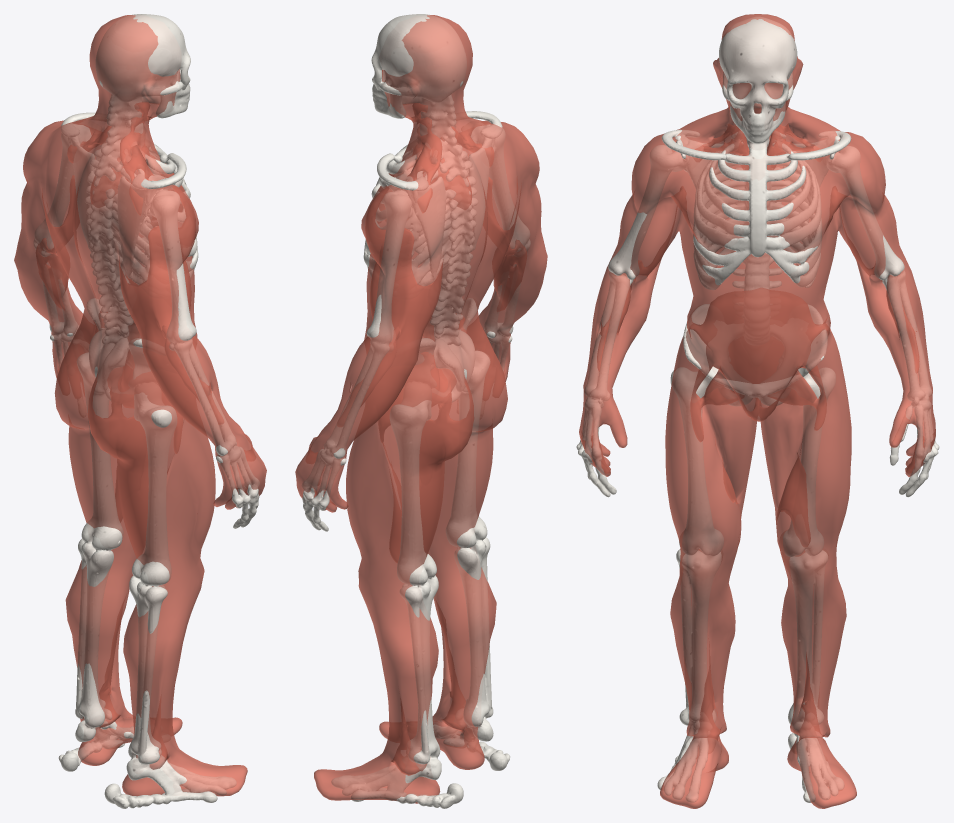
The model's file is human_rigged.glb.
The picture shows the model from 3 angles, left to right: view 1: azimuth 30°, elevation 25°; view 2: azimuth 150°, elevation 25°; view 3: azimuth 270°, elevation 25°; orthographic projection.
Parts seen in each view (by area): view 1: MU_tripo_node_d9c8d9d8, SK_tripo_node_59d33369-c72a-4927-9645-4faf6f81b9eb; view 2: MU_tripo_node_d9c8d9d8, SK_tripo_node_59d33369-c72a-4927-9645-4faf6f81b9eb; view 3: MU_tripo_node_d9c8d9d8, SK_tripo_node_59d33369-c72a-4927-9645-4faf6f81b9eb.
Boxes of the visible parts, x1=… form: MU_tripo_node_d9c8d9d8: x1=14, y1=15, x2=266, y2=796; SK_tripo_node_59d33369-c72a-4927-9645-4faf6f81b9eb: x1=33, y1=14, x2=259, y2=808; MU_tripo_node_d9c8d9d8: x1=295, y1=15, x2=547, y2=803; SK_tripo_node_59d33369-c72a-4927-9645-4faf6f81b9eb: x1=301, y1=14, x2=530, y2=808; MU_tripo_node_d9c8d9d8: x1=579, y1=14, x2=935, y2=808; SK_tripo_node_59d33369-c72a-4927-9645-4faf6f81b9eb: x1=576, y1=17, x2=939, y2=802.
Bounding box in the file's own units: 0.2106 × 1 × 0.4347.
